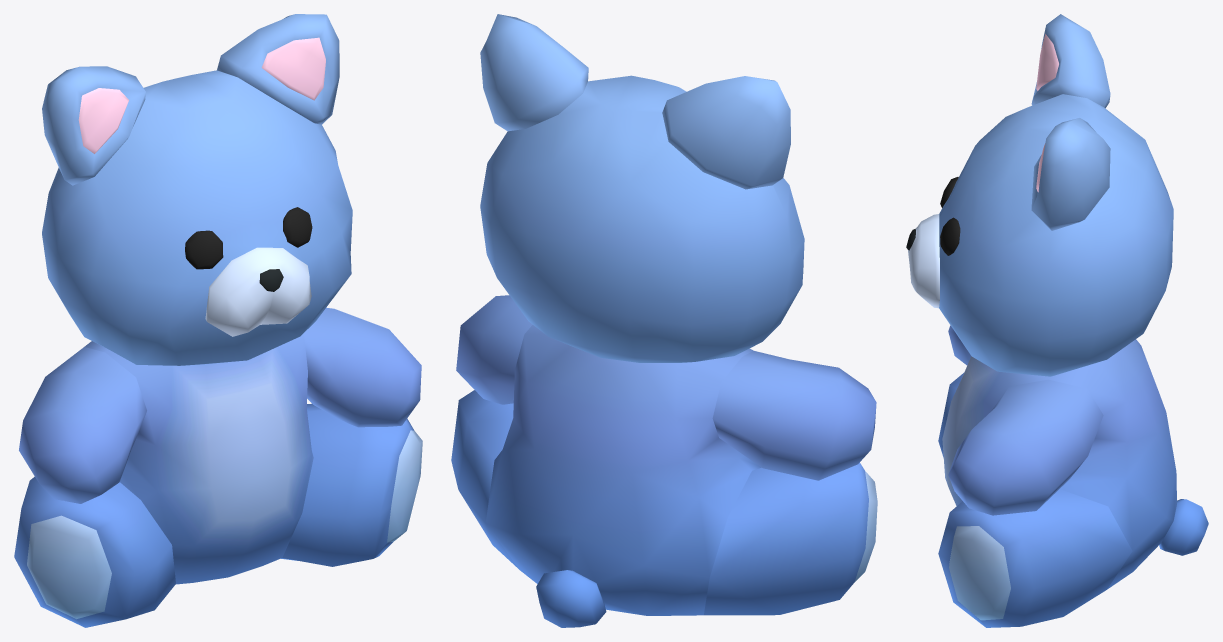
The model's file is cat.glb.
3 views of the same model, side by side, from view 1: azimuth 30°, elevation 25°; view 2: azimuth 150°, elevation 25°; view 3: azimuth 270°, elevation 25° (orthographic). The views are drawn at different scales.
Parts seen in each view (by area): view 1: Cat_01; view 2: Cat_01; view 3: Cat_01.
Part boxes in pixels (bbox=[...]): Cat_01: bbox=[14, 14, 422, 627]; Cat_01: bbox=[451, 14, 877, 627]; Cat_01: bbox=[906, 14, 1208, 627].
Size of the model in its own units: 0.3281 by 0.427 by 0.2355.
2 materials, 2 textured.
